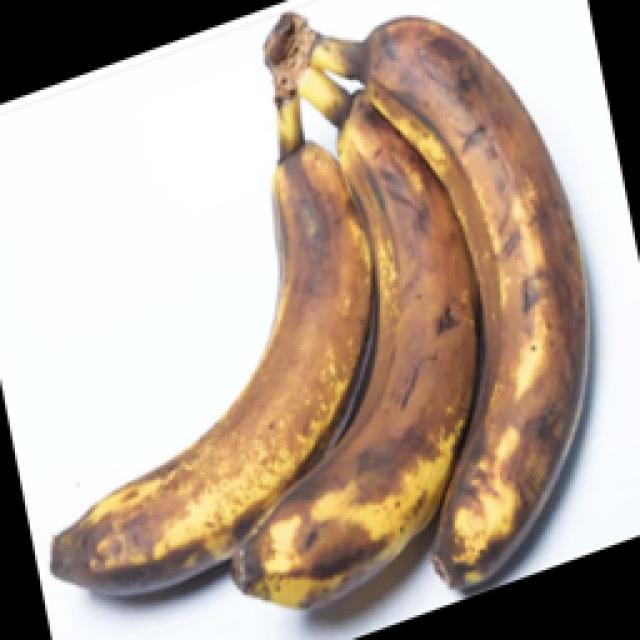Rotten_Banana: (216, 58, 586, 609)
